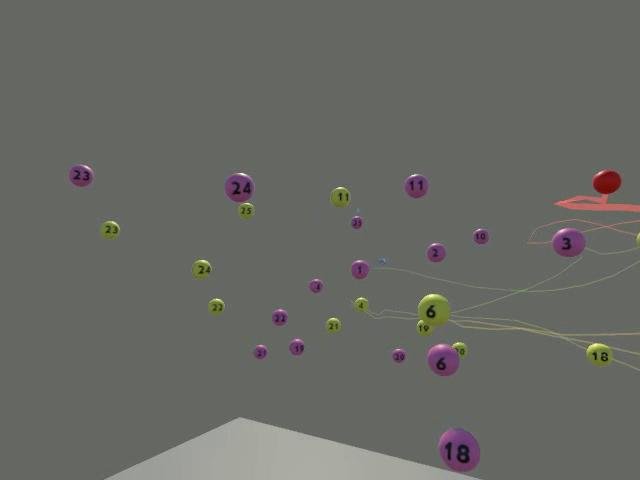ball_01_pink: (350, 259, 368, 279)
ball_02_pink: (426, 242, 445, 262)
ball_03_pink: (551, 227, 585, 256)
ball_04_pink: (309, 278, 322, 293)
ball_04_yellow: (353, 296, 368, 312)
ball_06_pink: (426, 343, 459, 376)
ball_06_yellow: (417, 293, 449, 326)
ball_10_pink: (472, 228, 489, 244)
ball_11_pink: (403, 173, 428, 198)
ball_11_yellow: (329, 186, 350, 206)
ball_18_pink: (437, 427, 479, 472)
ball_18_yellow: (585, 342, 612, 366)
ball_19_pink: (288, 338, 304, 355)
ball_20_pink: (391, 348, 405, 363)
ball_21_pink: (253, 344, 267, 359), (350, 215, 362, 229)
ball_21_yellow: (325, 317, 340, 332)
ball_22_pink: (271, 308, 287, 325)
ball_22_yellow: (207, 297, 224, 314)
ball_23_pink: (68, 163, 93, 186)
ball_23_yellow: (99, 220, 120, 239)
ball_24_pink: (223, 172, 253, 202)
ball_24_yellow: (191, 259, 211, 279)
ball_25_yellow: (237, 202, 254, 218)
ball_unknown: (416, 319, 433, 335), (452, 341, 467, 358), (635, 231, 639, 247)
user_cursor: (592, 169, 621, 194)
